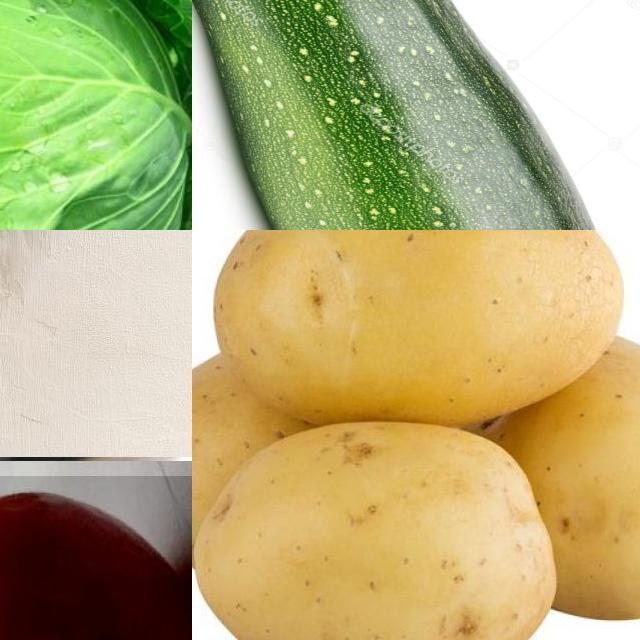cabbage: (1, 1, 185, 231)
potato: (213, 231, 623, 424), (195, 423, 558, 640), (497, 336, 640, 622), (193, 354, 319, 563)
zucchini: (193, 1, 621, 231)
